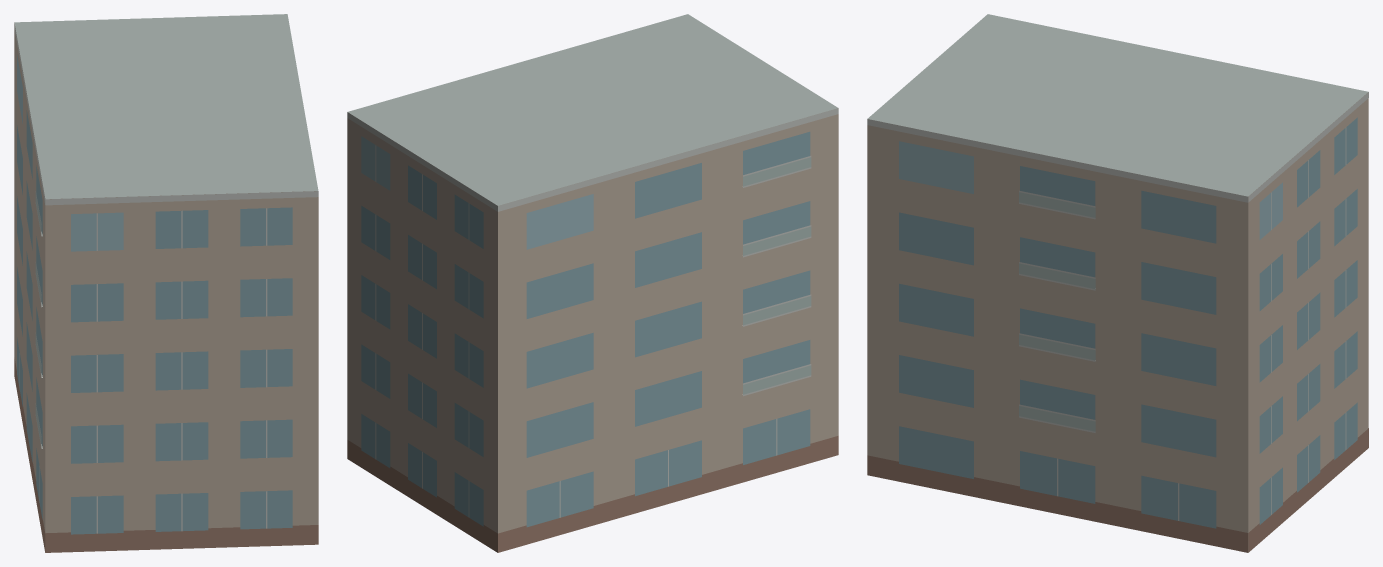
The model's file is survey-upis-32916504.glb.
3 renders of one model, left to right at view 1: azimuth 30°, elevation 25°; view 2: azimuth 150°, elevation 25°; view 3: azimuth 270°, elevation 25°, orthographic. The views are drawn at different scales.
Parts seen in each view (by area): view 1: survey-upis-32916504.tmp; view 2: survey-upis-32916504.tmp; view 3: survey-upis-32916504.tmp.
Boxes of the visible parts, x1,y1,x2,y2 form: survey-upis-32916504.tmp: (14,14,318,552); survey-upis-32916504.tmp: (347,14,838,552); survey-upis-32916504.tmp: (867,14,1368,552).
Size of the model in its own units: 15.51 by 14.1 by 17.99.
